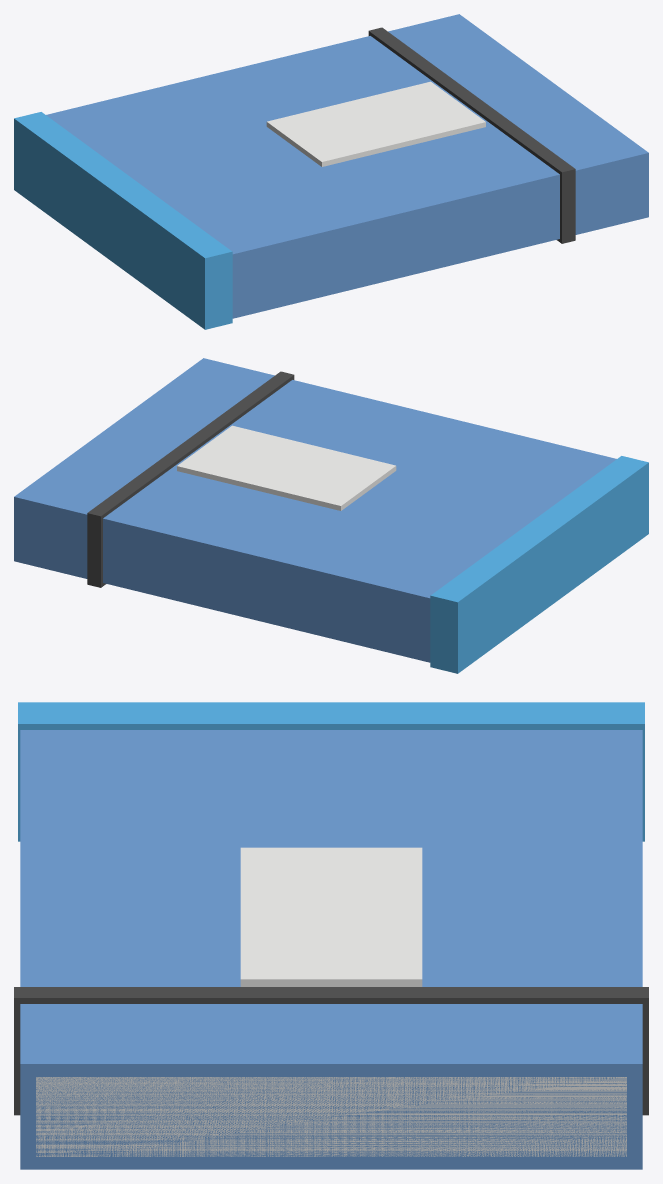
The model's file is notebook.glb.
The picture shows the model from 3 angles, top to bottom: view 1: azimuth 30°, elevation 25°; view 2: azimuth 150°, elevation 25°; view 3: azimuth 270°, elevation 25°; orthographic projection. The views are drawn at different scales.
Parts seen in each view (by area): view 1: notebook_Mesh; view 2: notebook_Mesh; view 3: notebook_Mesh.
Part boxes in pixels (x1,y1,x2,y2): notebook_Mesh: [14, 14, 648, 329]; notebook_Mesh: [14, 358, 648, 673]; notebook_Mesh: [14, 702, 648, 1169].
Bounding box in the file's own units: 0.325 × 0.051 × 0.245.
